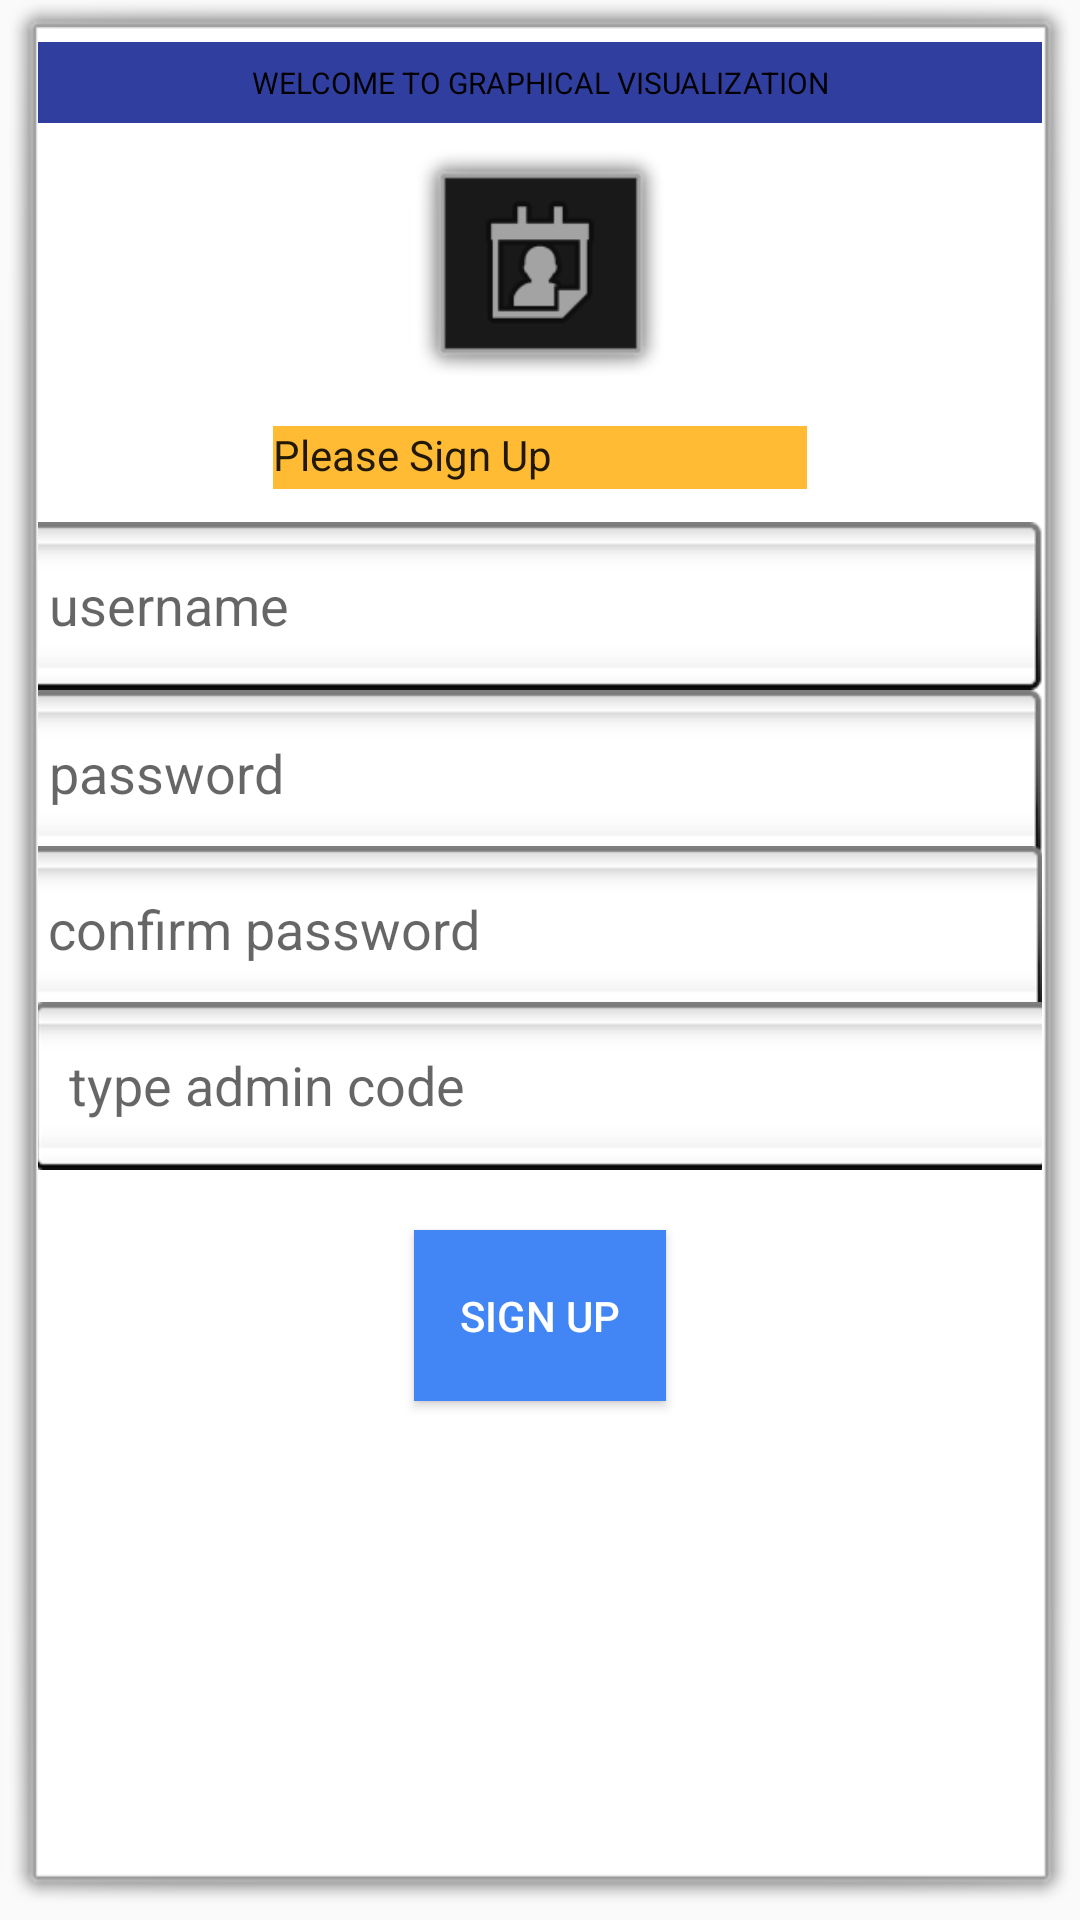

Named icons in this screenshot (1080px x 1920px) and their bounding boxes, (left=x1, top=y1, right=x2, bottom=y2):
calendar: (left=427, top=160, right=654, bottom=367)
